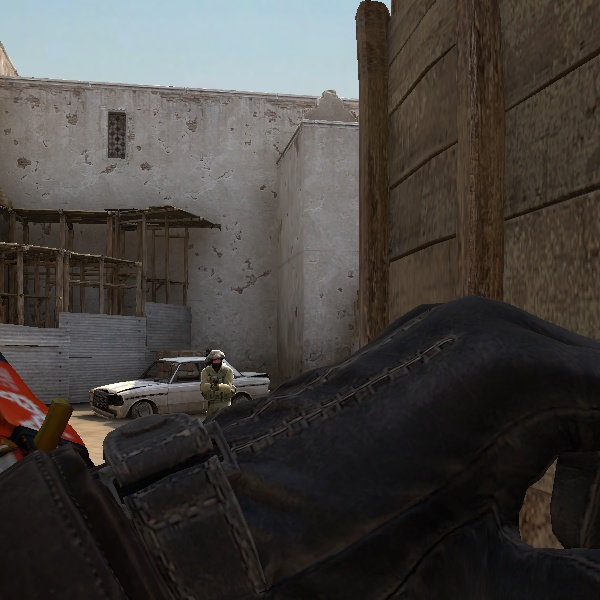ct_body: (187, 349, 247, 419)
